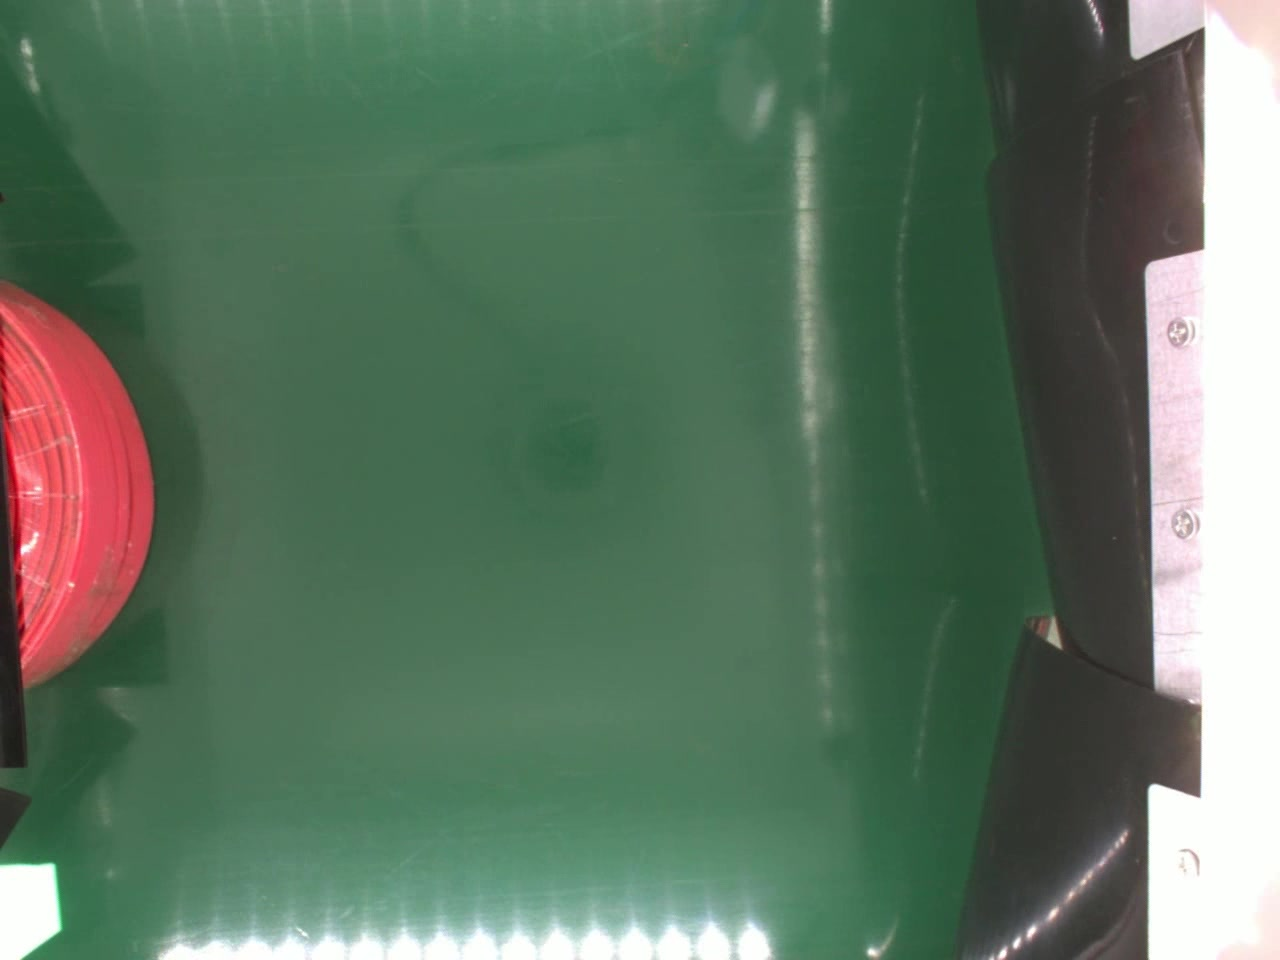red: (0, 279, 151, 689)
